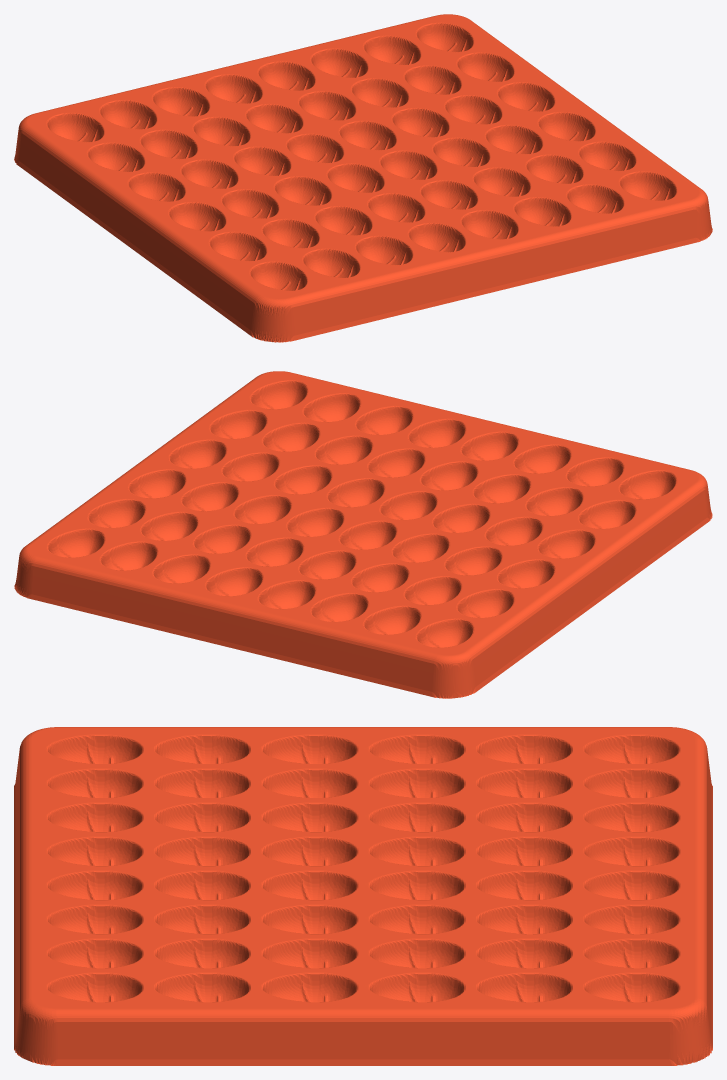
Rendered from mold.glb.
3 views of the same model, one above another, from view 1: azimuth 30°, elevation 25°; view 2: azimuth 150°, elevation 25°; view 3: azimuth 270°, elevation 25° (orthographic). The views are drawn at different scales.
Parts seen in each view (by area): view 1: geometry_0; view 2: geometry_0; view 3: geometry_0.
Boxes of the visible parts, box(x1,y1,x2,y2) form: geometry_0: box(14, 14, 712, 342); geometry_0: box(14, 371, 712, 698); geometry_0: box(14, 727, 712, 1065).
Size of the model in its own units: 0.1443 by 0.0114 by 0.1443.
